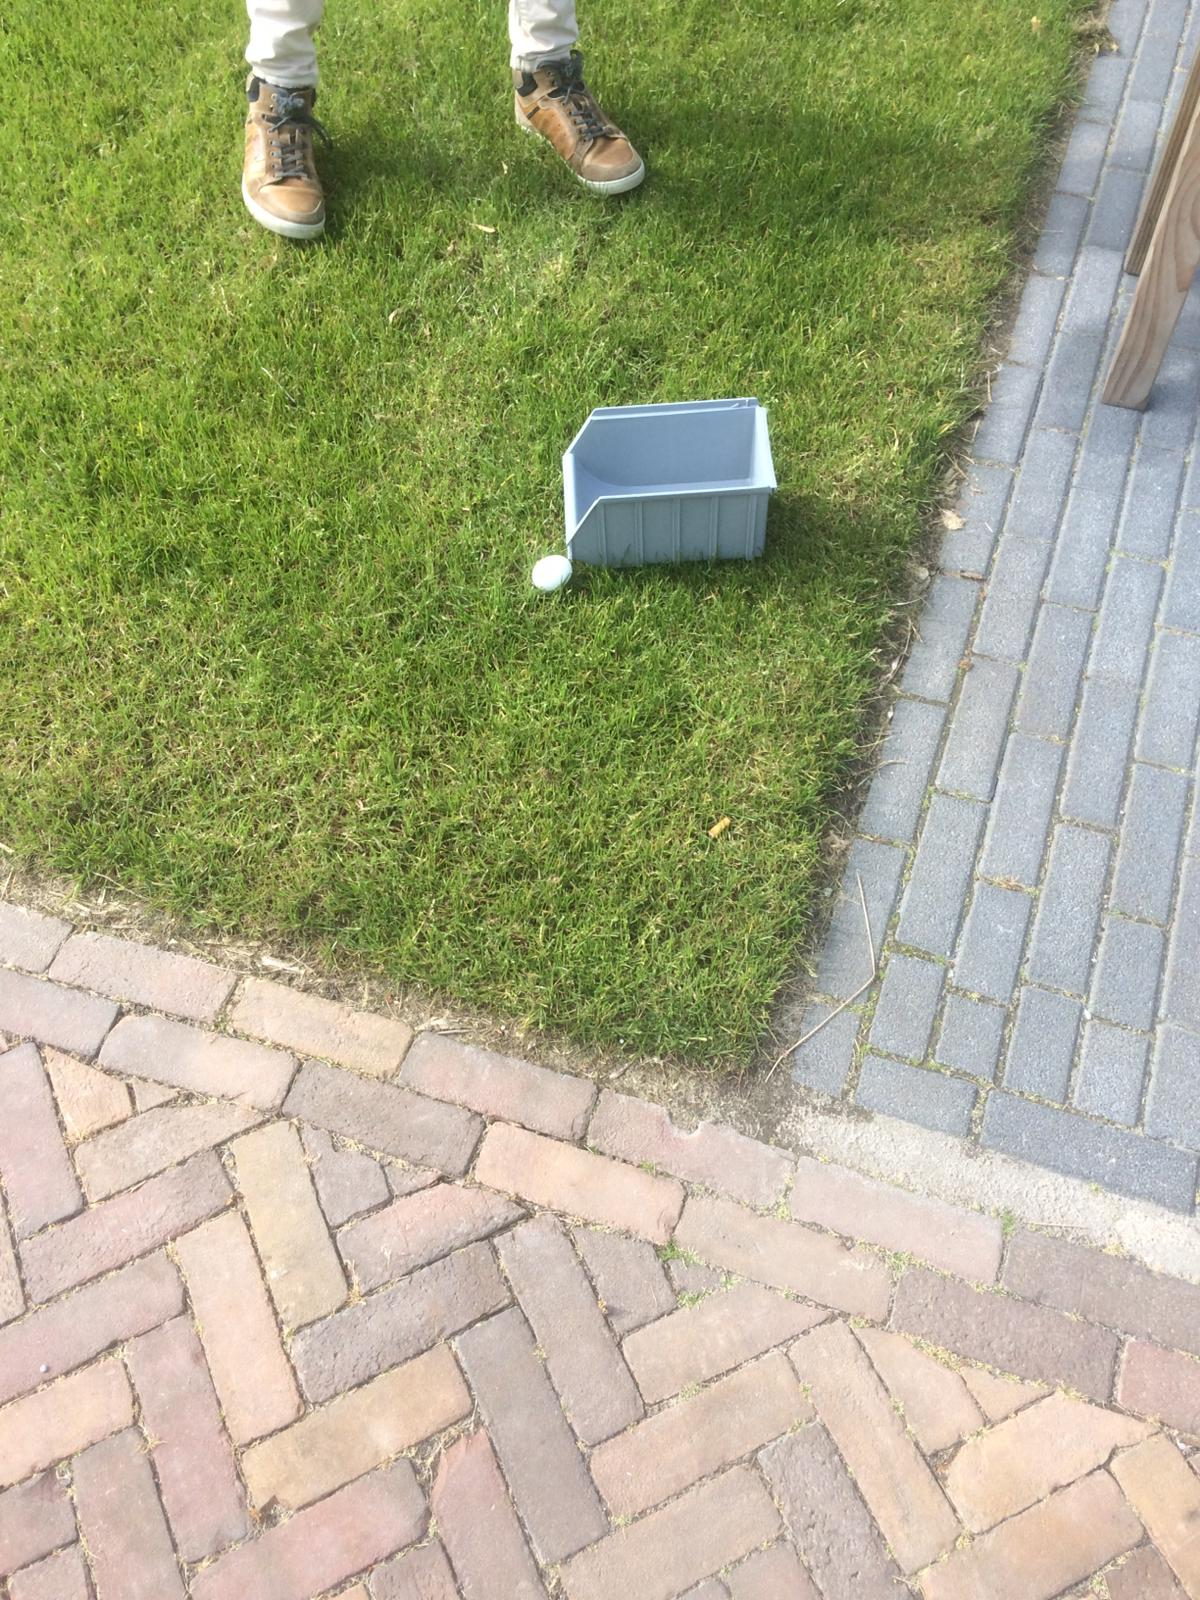egg: (521, 543, 584, 602)
tray: (558, 391, 782, 577)
